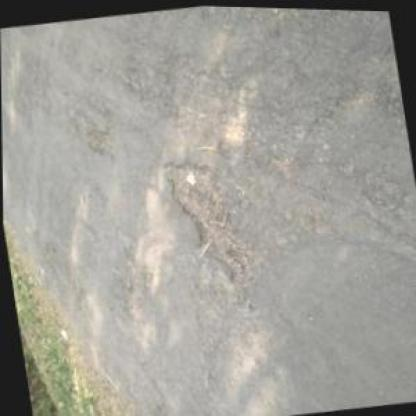pothole: (158, 150, 254, 297), (71, 107, 115, 158)
